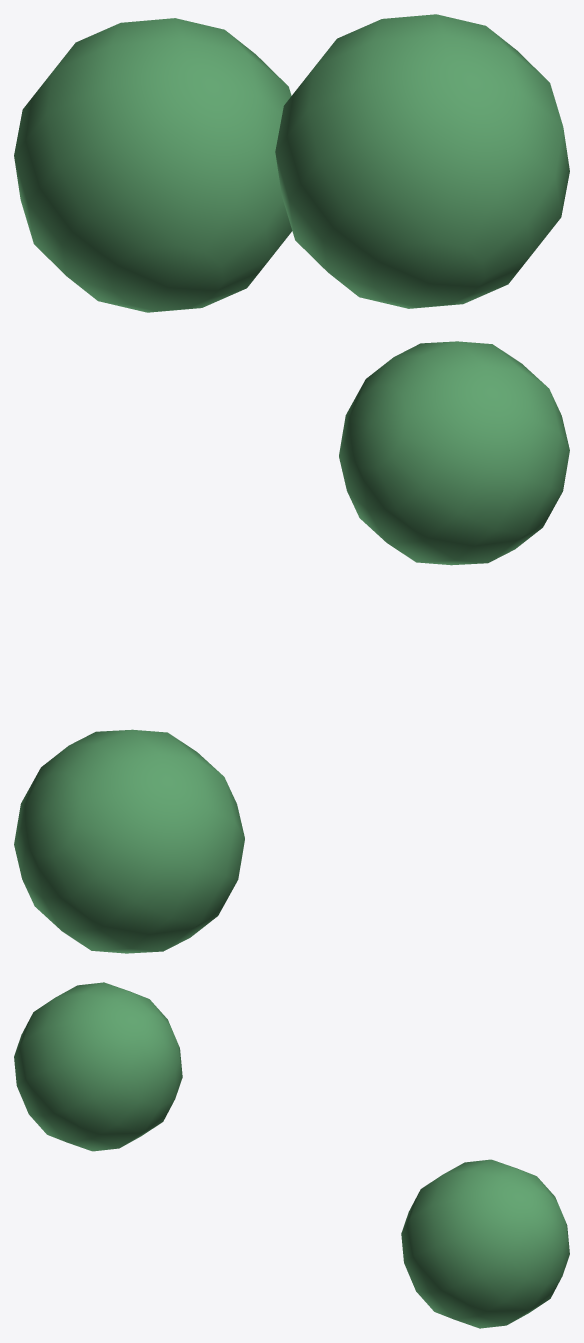
3 renders of one model, top to bottom at view 1: azimuth 30°, elevation 25°; view 2: azimuth 150°, elevation 25°; view 3: azimuth 270°, elevation 25°, orthographic. The views are drawn at different scales.
Visible parts, largest first — view 1: 右侧腋外侧淋巴结; view 2: 右侧腋外侧淋巴结; view 3: 右侧腋外侧淋巴结.
Boxes of the visible parts, x1,y1,x2,y2 form: 右侧腋外侧淋巴结: [14, 14, 569, 312]; 右侧腋外侧淋巴结: [14, 341, 569, 953]; 右侧腋外侧淋巴结: [14, 982, 569, 1328].
Bounding box in the file's own units: 0.00499 × 0.00762 × 0.0125.
